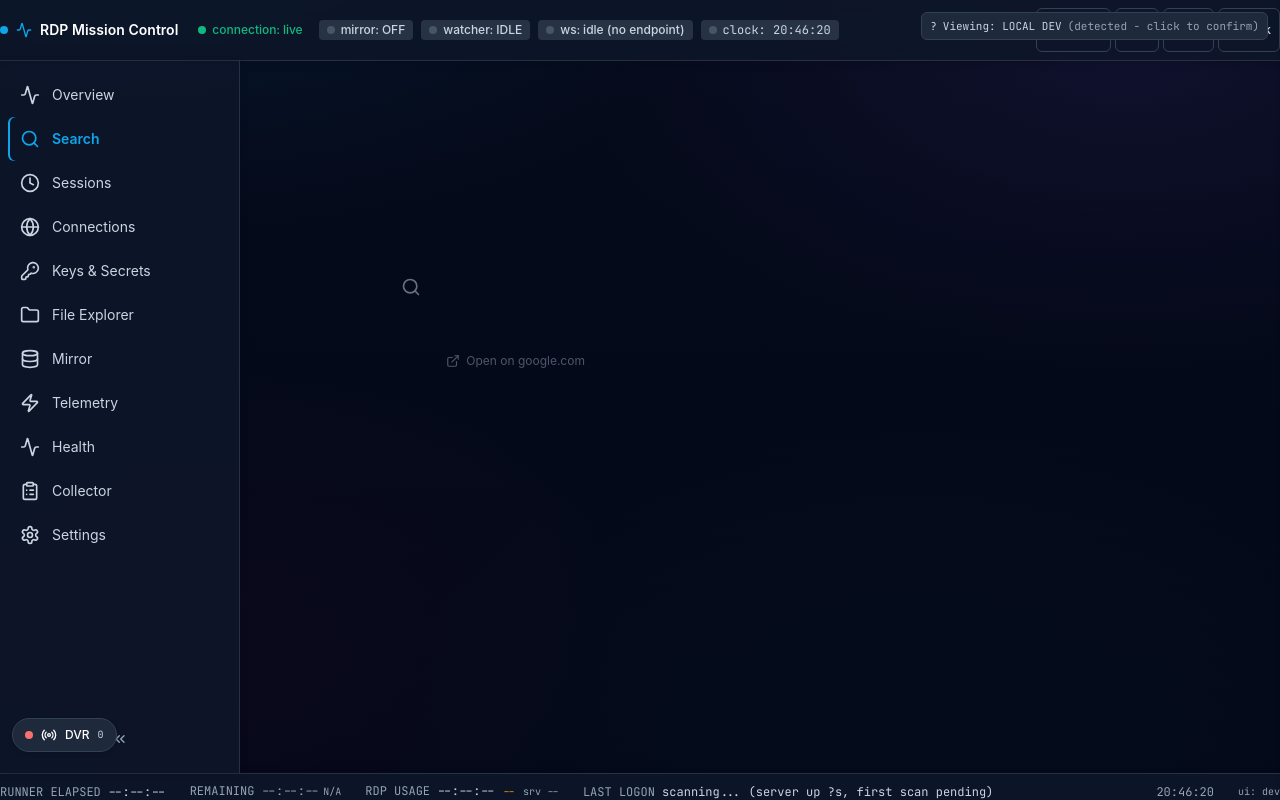
Test case: sidebar navigation (F56-c / F76 order) › Ctrl+K palette prefills /search without submitting the query
Step 1. Press k
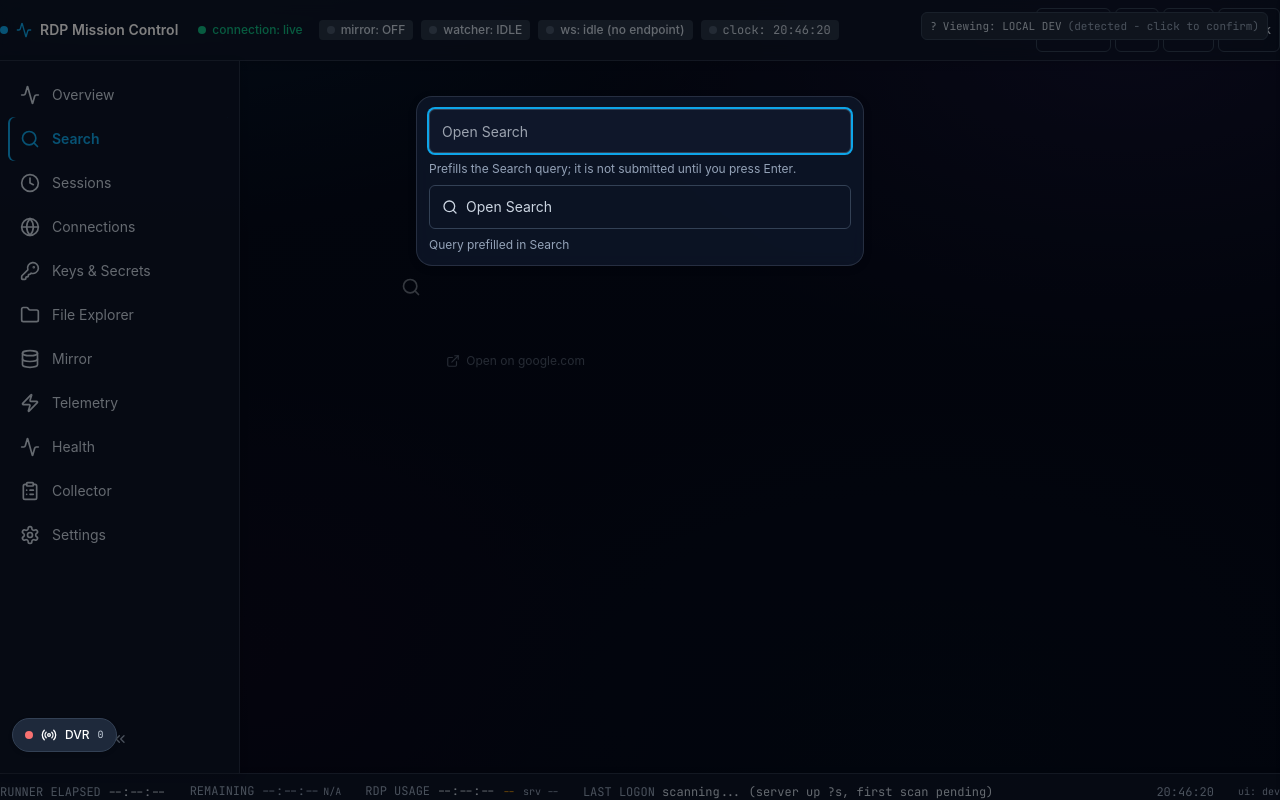
Expected: the dialog with test id "command-palette" is shown, [416,96,864,266]
Step 2. Type "gutenberg" into the dropdown with test id "palette-input" → {"x": 640, "y": 131}, box [429,109,851,153]
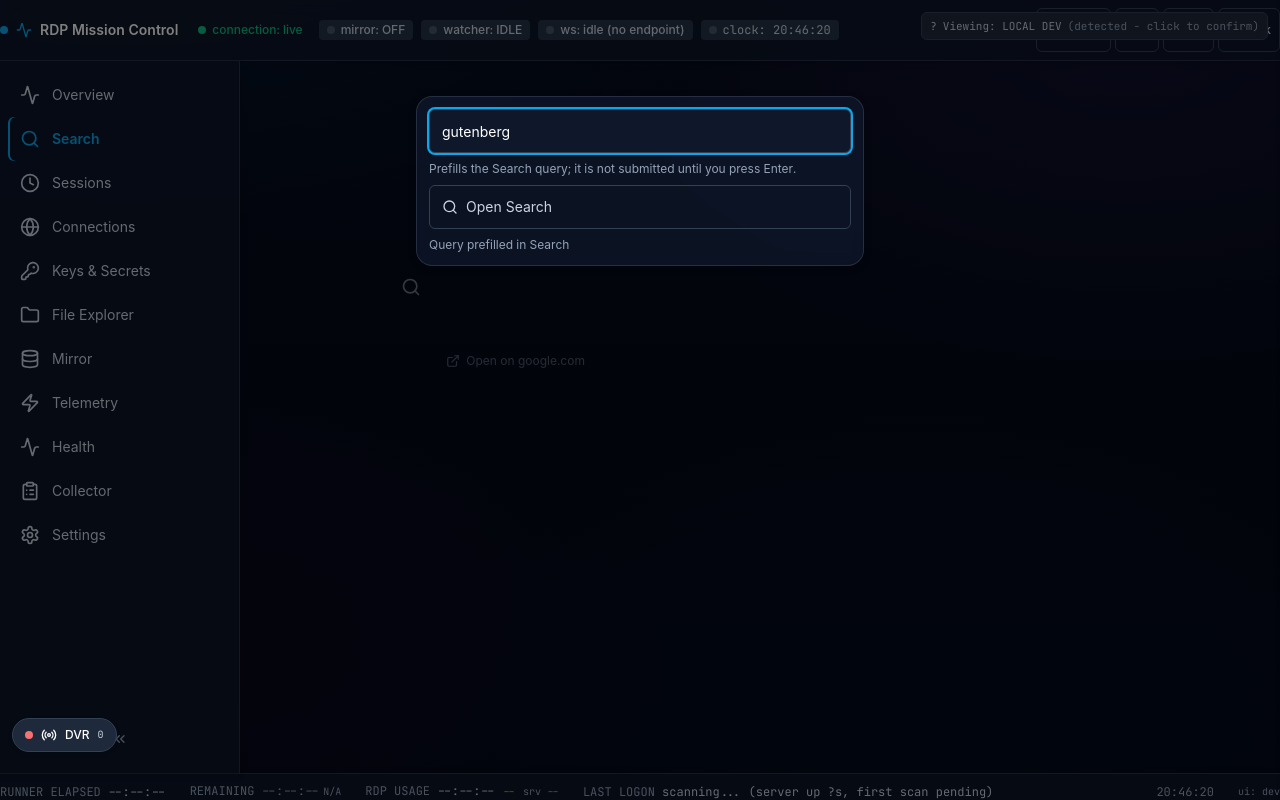
Step 3. Press Enter in the dropdown with test id "palette-input", box [429,109,851,153]
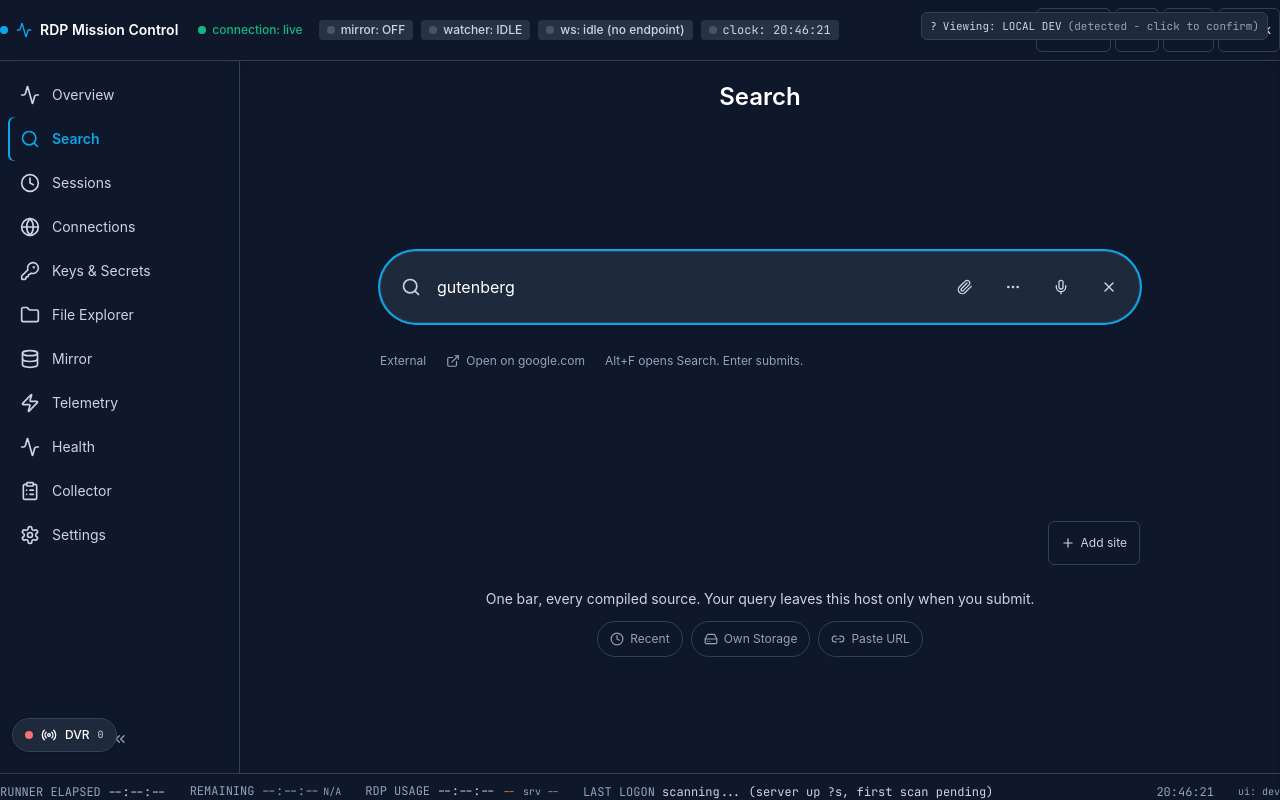
Expected: the element with test id "search-page" is shown, [380,81,1140,657]
Expected: the search field with id "f56" holds "gutenberg", [437,275,939,299]
